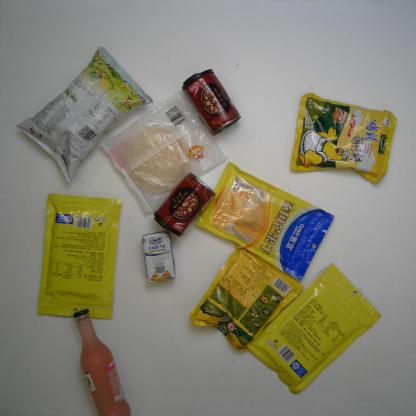Alcohol: (70, 310, 135, 414)
Canned Food: (182, 66, 242, 136), (152, 172, 216, 237)
Dessert: (96, 89, 228, 214)
Dried Fruit: (245, 264, 381, 398), (195, 161, 334, 280), (35, 192, 124, 322)
Milk: (142, 230, 178, 286)
Puffed Food: (17, 47, 154, 184)
Seasoner: (188, 243, 303, 352), (289, 91, 397, 183)
